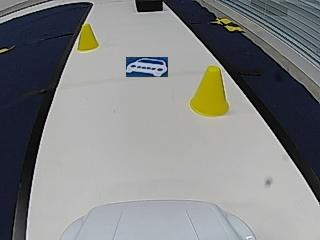block: (136, 1, 163, 12)
cone: (191, 67, 230, 116), (78, 26, 99, 51)
